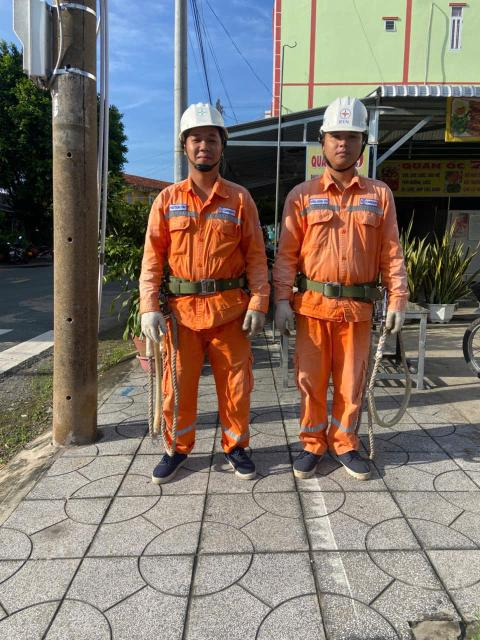gloves: (225, 301, 276, 335), (130, 301, 167, 338), (268, 298, 303, 334), (378, 302, 411, 336)
harness: (301, 264, 391, 312), (147, 272, 251, 303)
helmet: (301, 89, 386, 140), (176, 97, 235, 141)
shoes: (224, 434, 271, 487), (287, 432, 327, 485), (146, 447, 192, 491), (334, 434, 370, 479)
